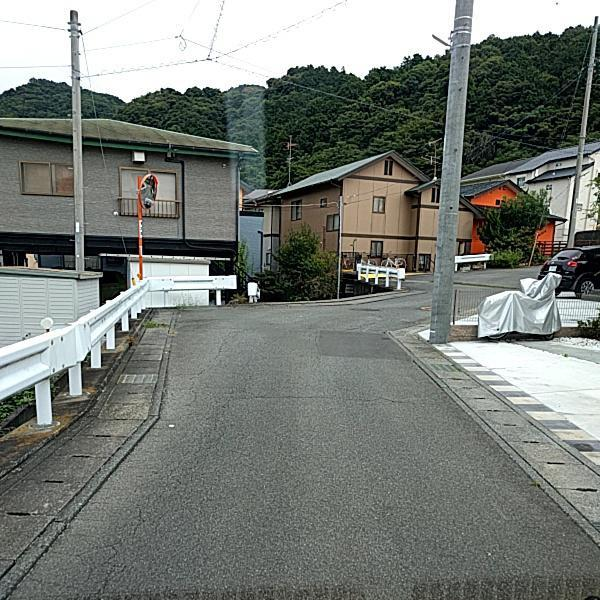D10: (247, 389, 406, 402)
D20: (50, 447, 200, 593)
